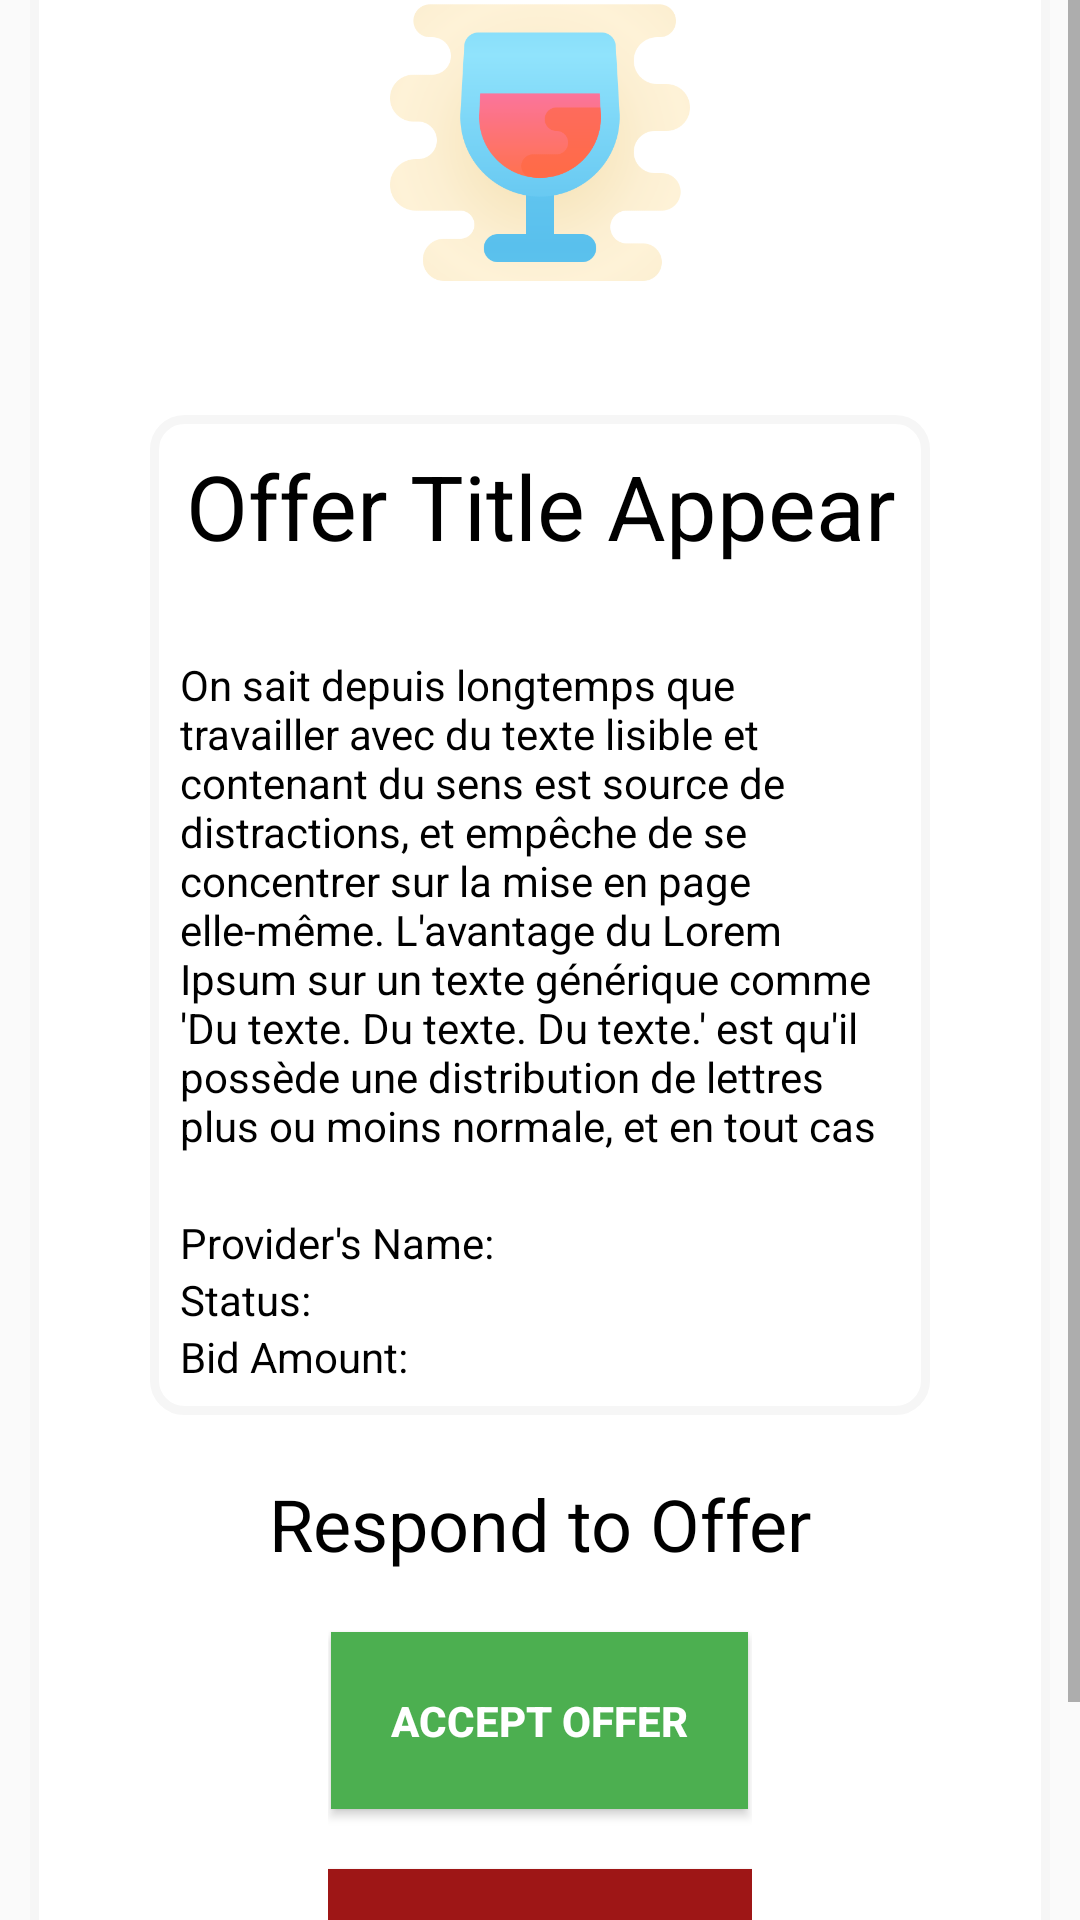

Named icons in this screenshot (1080w x 1920h) and their bounding boxes, (x1, y1, x2, y2):
alcohol service: (390, 4, 690, 281)
